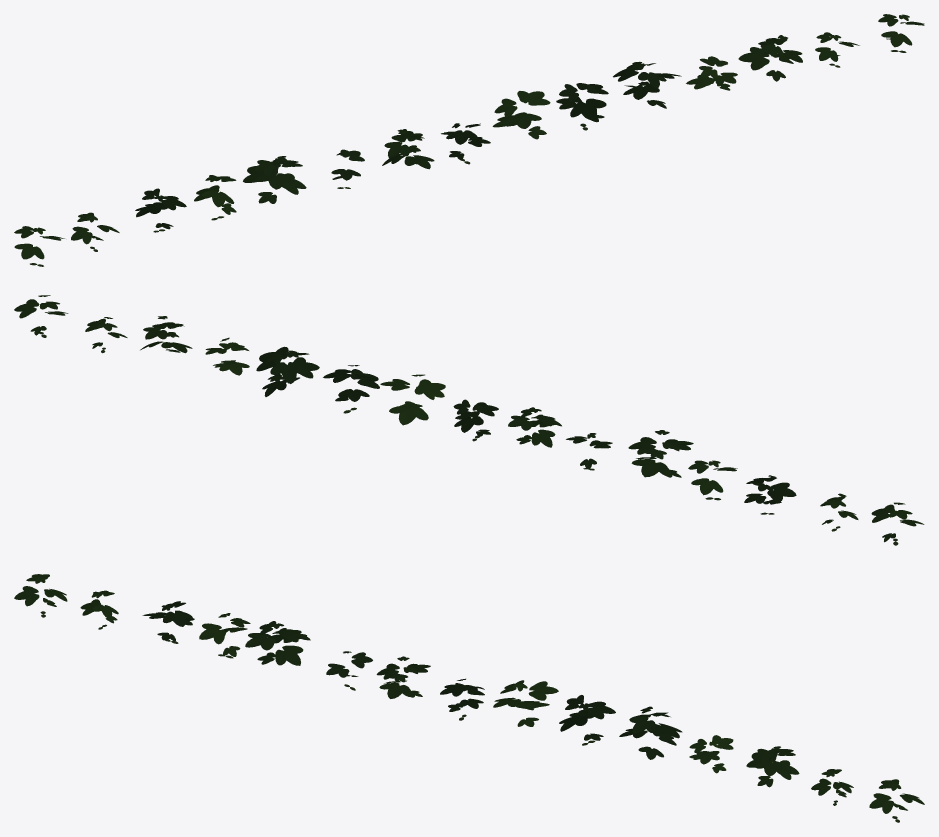
The model's file is ROW_18_SEG3_foliage.dae.
The picture shows the model from 3 angles, top to bottom: view 1: azimuth 30°, elevation 25°; view 2: azimuth 150°, elevation 25°; view 3: azimuth 330°, elevation 25°; orthographic projection.
Parts seen in each view (by area): view 1: ROW_18_SEG3_foliage; view 2: ROW_18_SEG3_foliage; view 3: ROW_18_SEG3_foliage.
Part boxes in pixels (x1,y1,x2,y2): ROW_18_SEG3_foliage: (14, 14, 924, 266); ROW_18_SEG3_foliage: (14, 295, 924, 545); ROW_18_SEG3_foliage: (14, 574, 924, 822).
Size of the model in its own units: 4.54 by 0.3581 by 0.2459.
